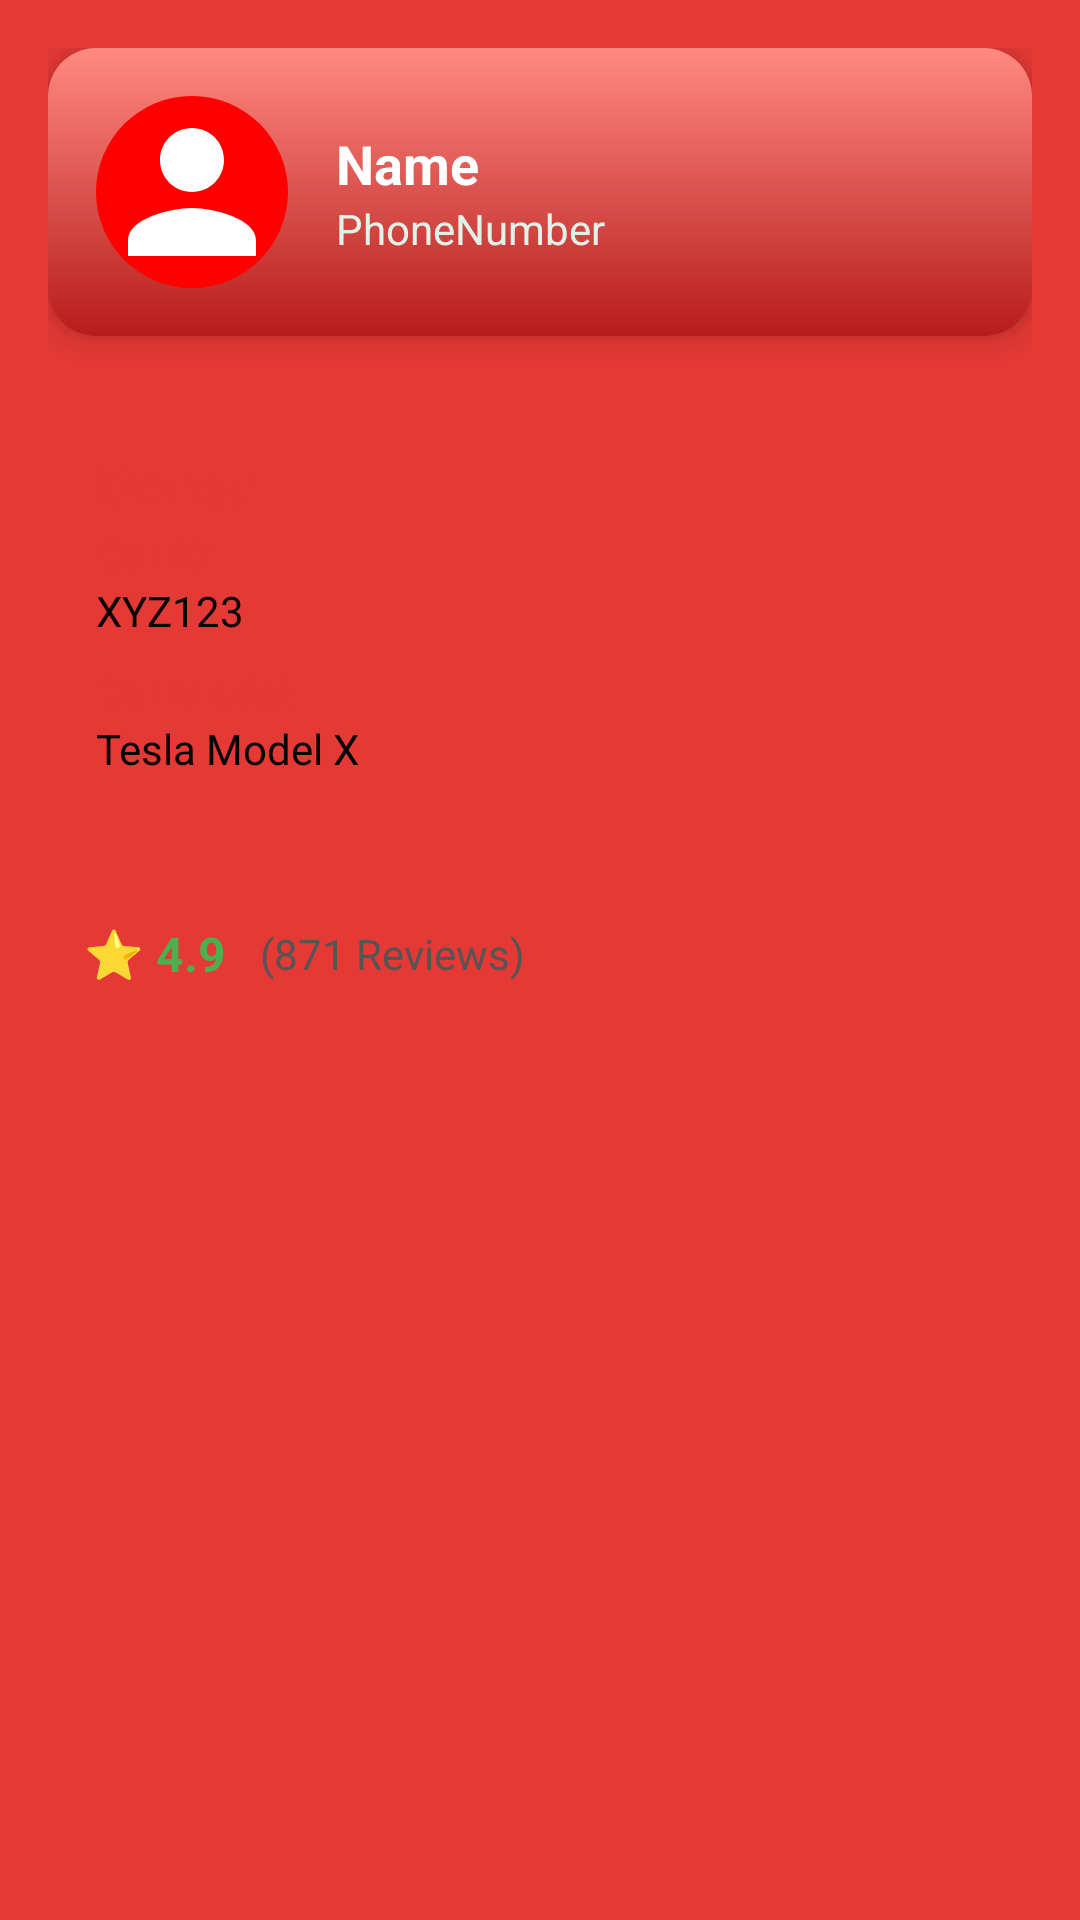

Icons on this 1080px×1920px Android screen, each with the point to tap as point (x, y):
profile: point (192, 192)
